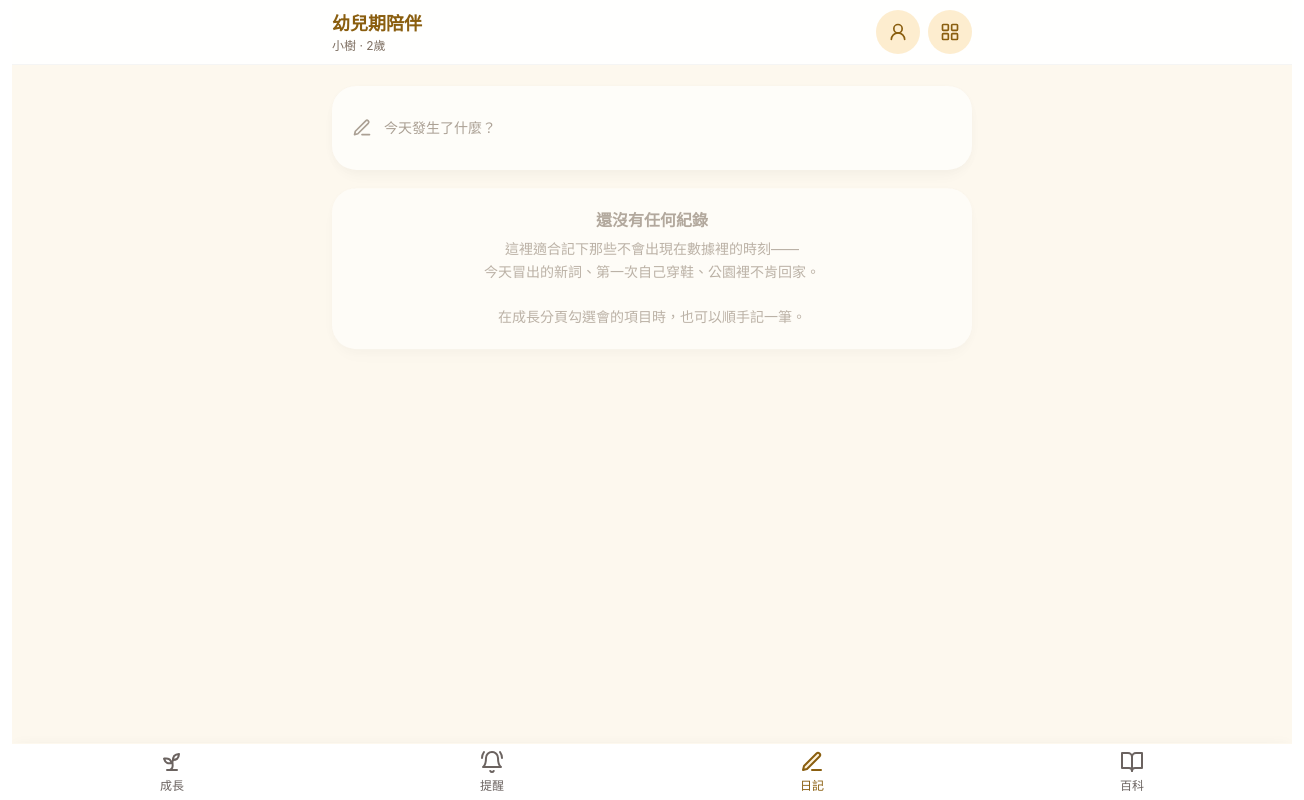
it: DiaryPage › 日期清空時不能送出
Click the button "今天發生了什麼？". click: click(440, 127)
box: x1=352 y1=106 x2=952 y2=150
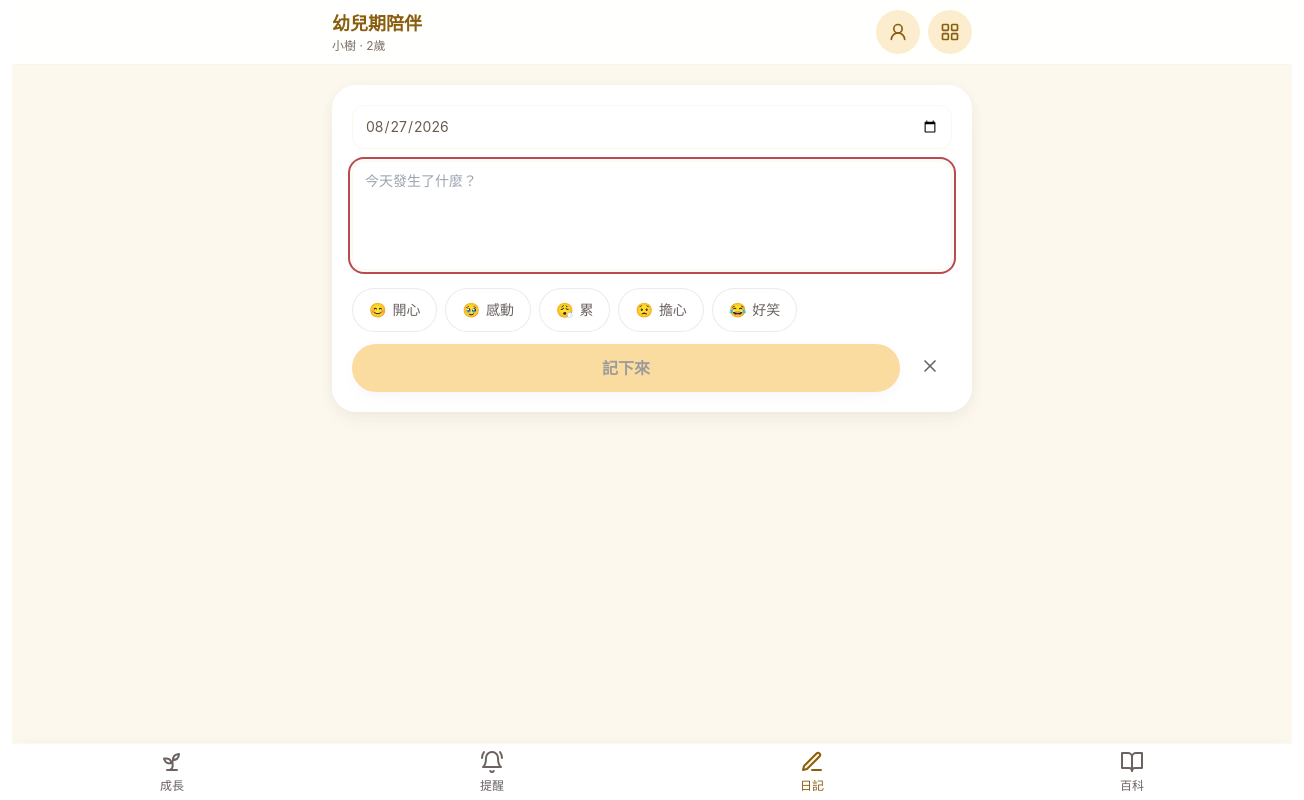
Type "今天去公園" into the text box with placeholder "今天發生了什麼？". click: (652, 216)
box: x1=352 y1=161 x2=952 y2=270
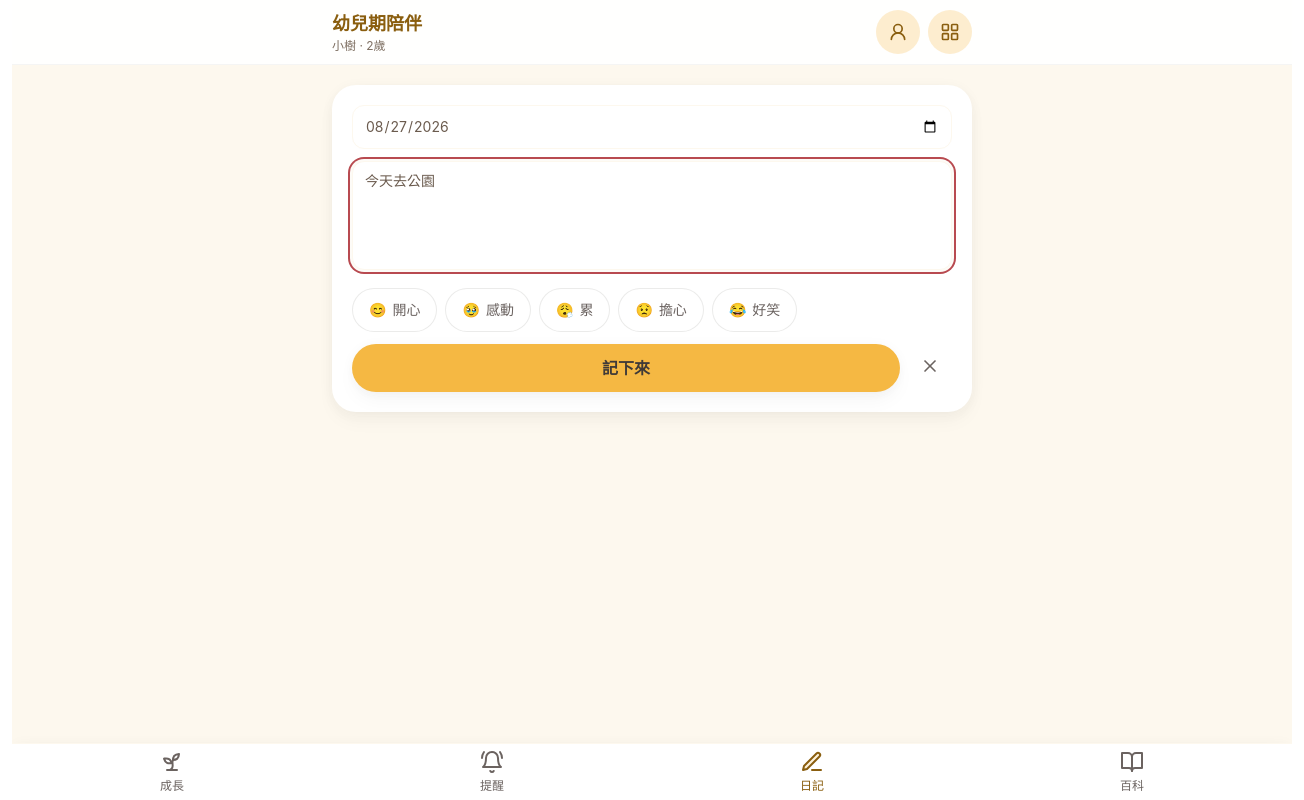
Clear the date field named "日期". click: (652, 127)
box: x1=352 y1=105 x2=952 y2=149
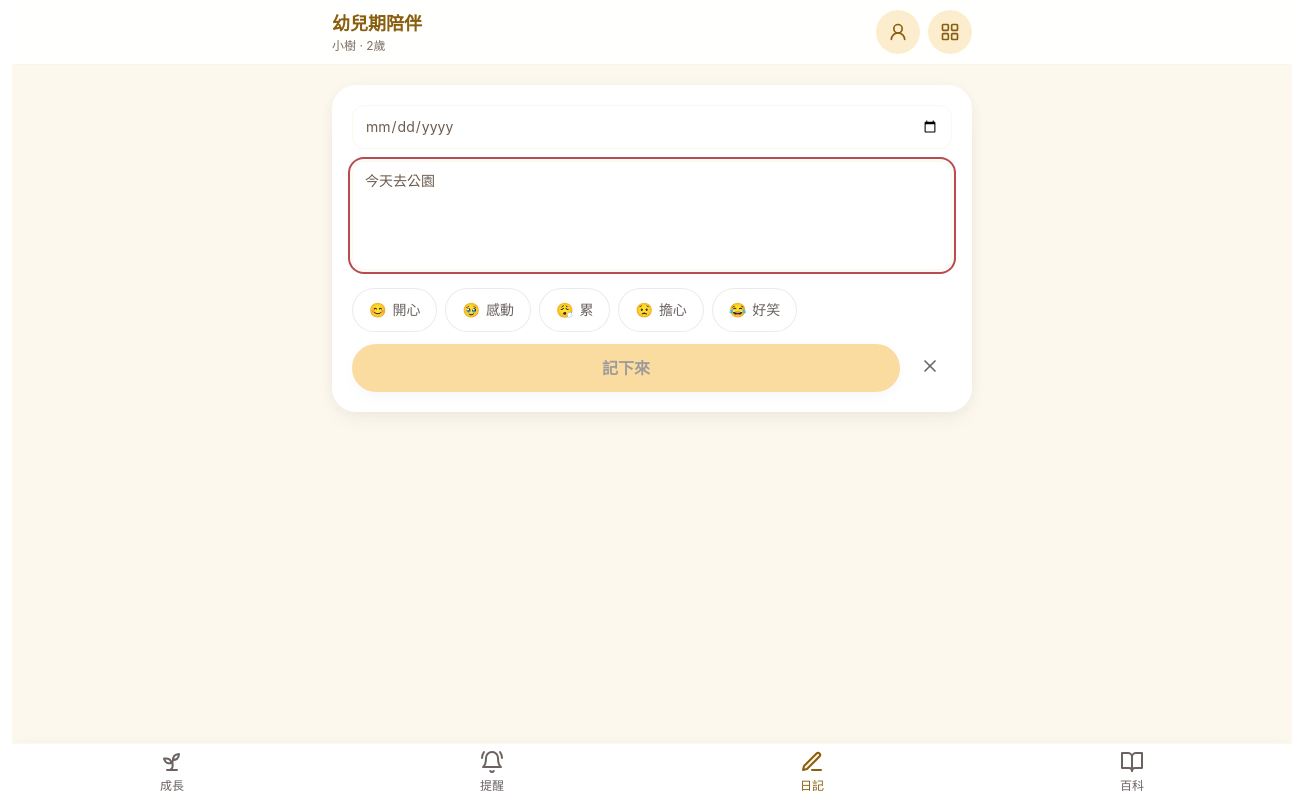
Now the button "記下來" is disabled, box x1=352 y1=344 x2=900 y2=392
